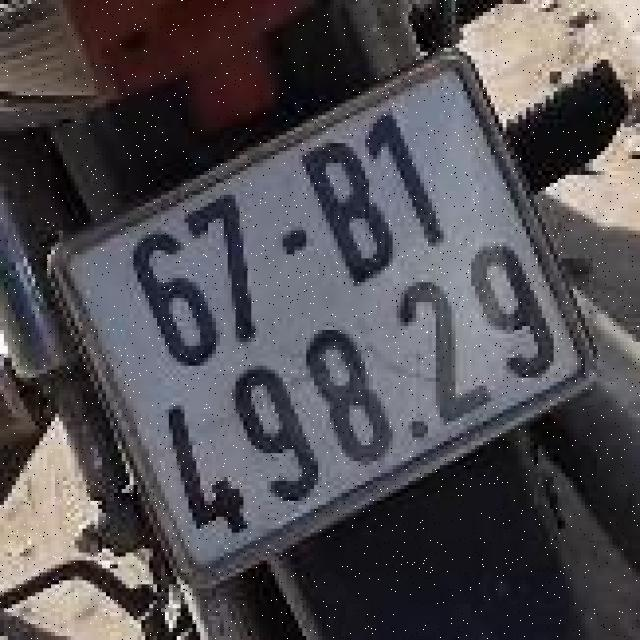1: (352, 103, 467, 261)
2: (379, 261, 510, 433)
4: (143, 389, 260, 553)
6: (116, 218, 236, 384)
7: (181, 184, 294, 351)
8: (293, 314, 407, 475)
9: (215, 352, 336, 519), (455, 230, 573, 393)
B: (286, 131, 416, 299)
